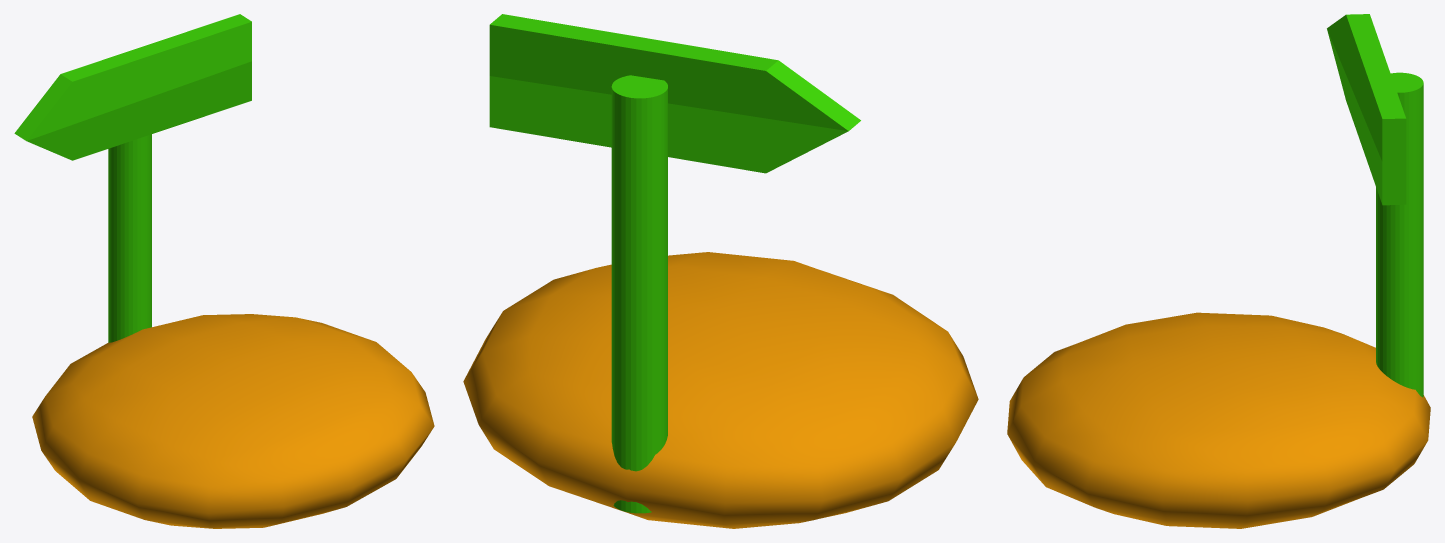
The model's file is field.fbx.
3 views of the same model, side by side, from view 1: azimuth 30°, elevation 25°; view 2: azimuth 150°, elevation 25°; view 3: azimuth 270°, elevation 25° (orthographic). The views are drawn at different scales.
Visible parts, largest first — view 1: Cube.026; view 2: Cube.026; view 3: Cube.026.
Boxes of the visible parts, x1,y1,x2,y2 form: Cube.026: (14,14,434,528); Cube.026: (463,14,978,528); Cube.026: (1007,14,1430,528).
Bounding box in the file's own units: 356 × 388 × 356.
